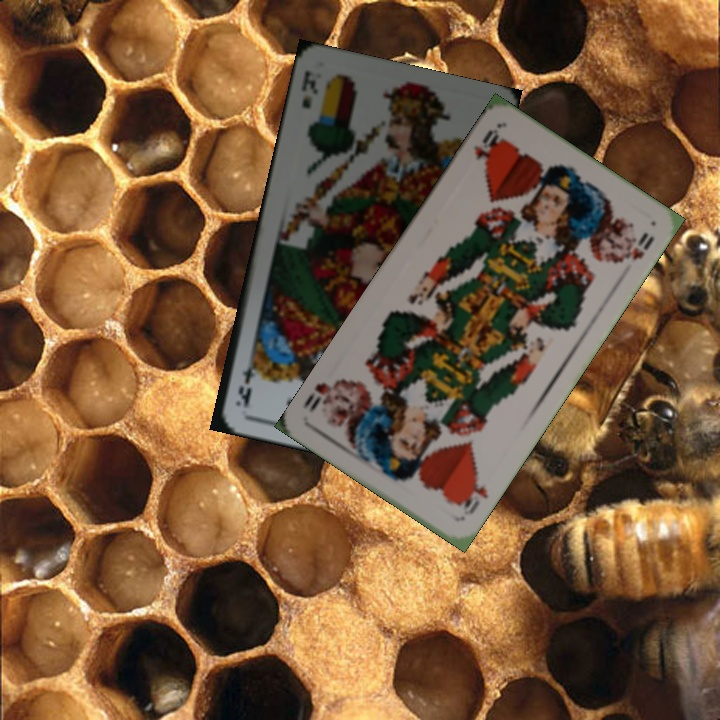EK: (297, 66, 321, 111)
HO: (454, 468, 491, 518), (469, 124, 505, 167)
